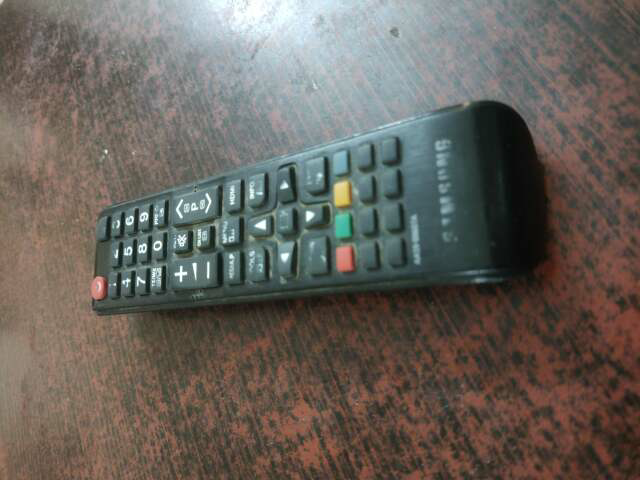remote: (89, 97, 564, 319)
